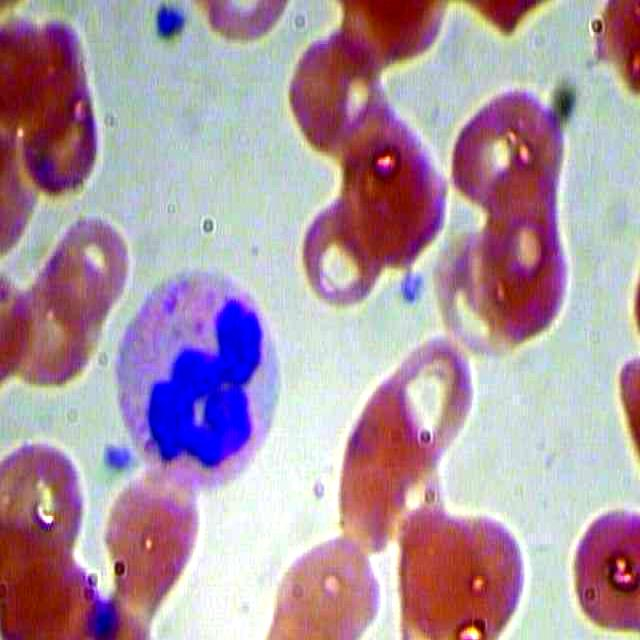Platelets: (394, 265, 433, 307), (99, 439, 138, 480), (149, 1, 188, 40)
RBC: (441, 79, 579, 217), (406, 498, 538, 640), (471, 190, 579, 350), (275, 29, 392, 168), (15, 16, 100, 196), (272, 518, 389, 640), (17, 217, 130, 340), (378, 332, 482, 465), (1, 263, 113, 385), (557, 478, 639, 640), (289, 189, 392, 312), (340, 108, 443, 231)
WBC: (108, 259, 281, 496)
